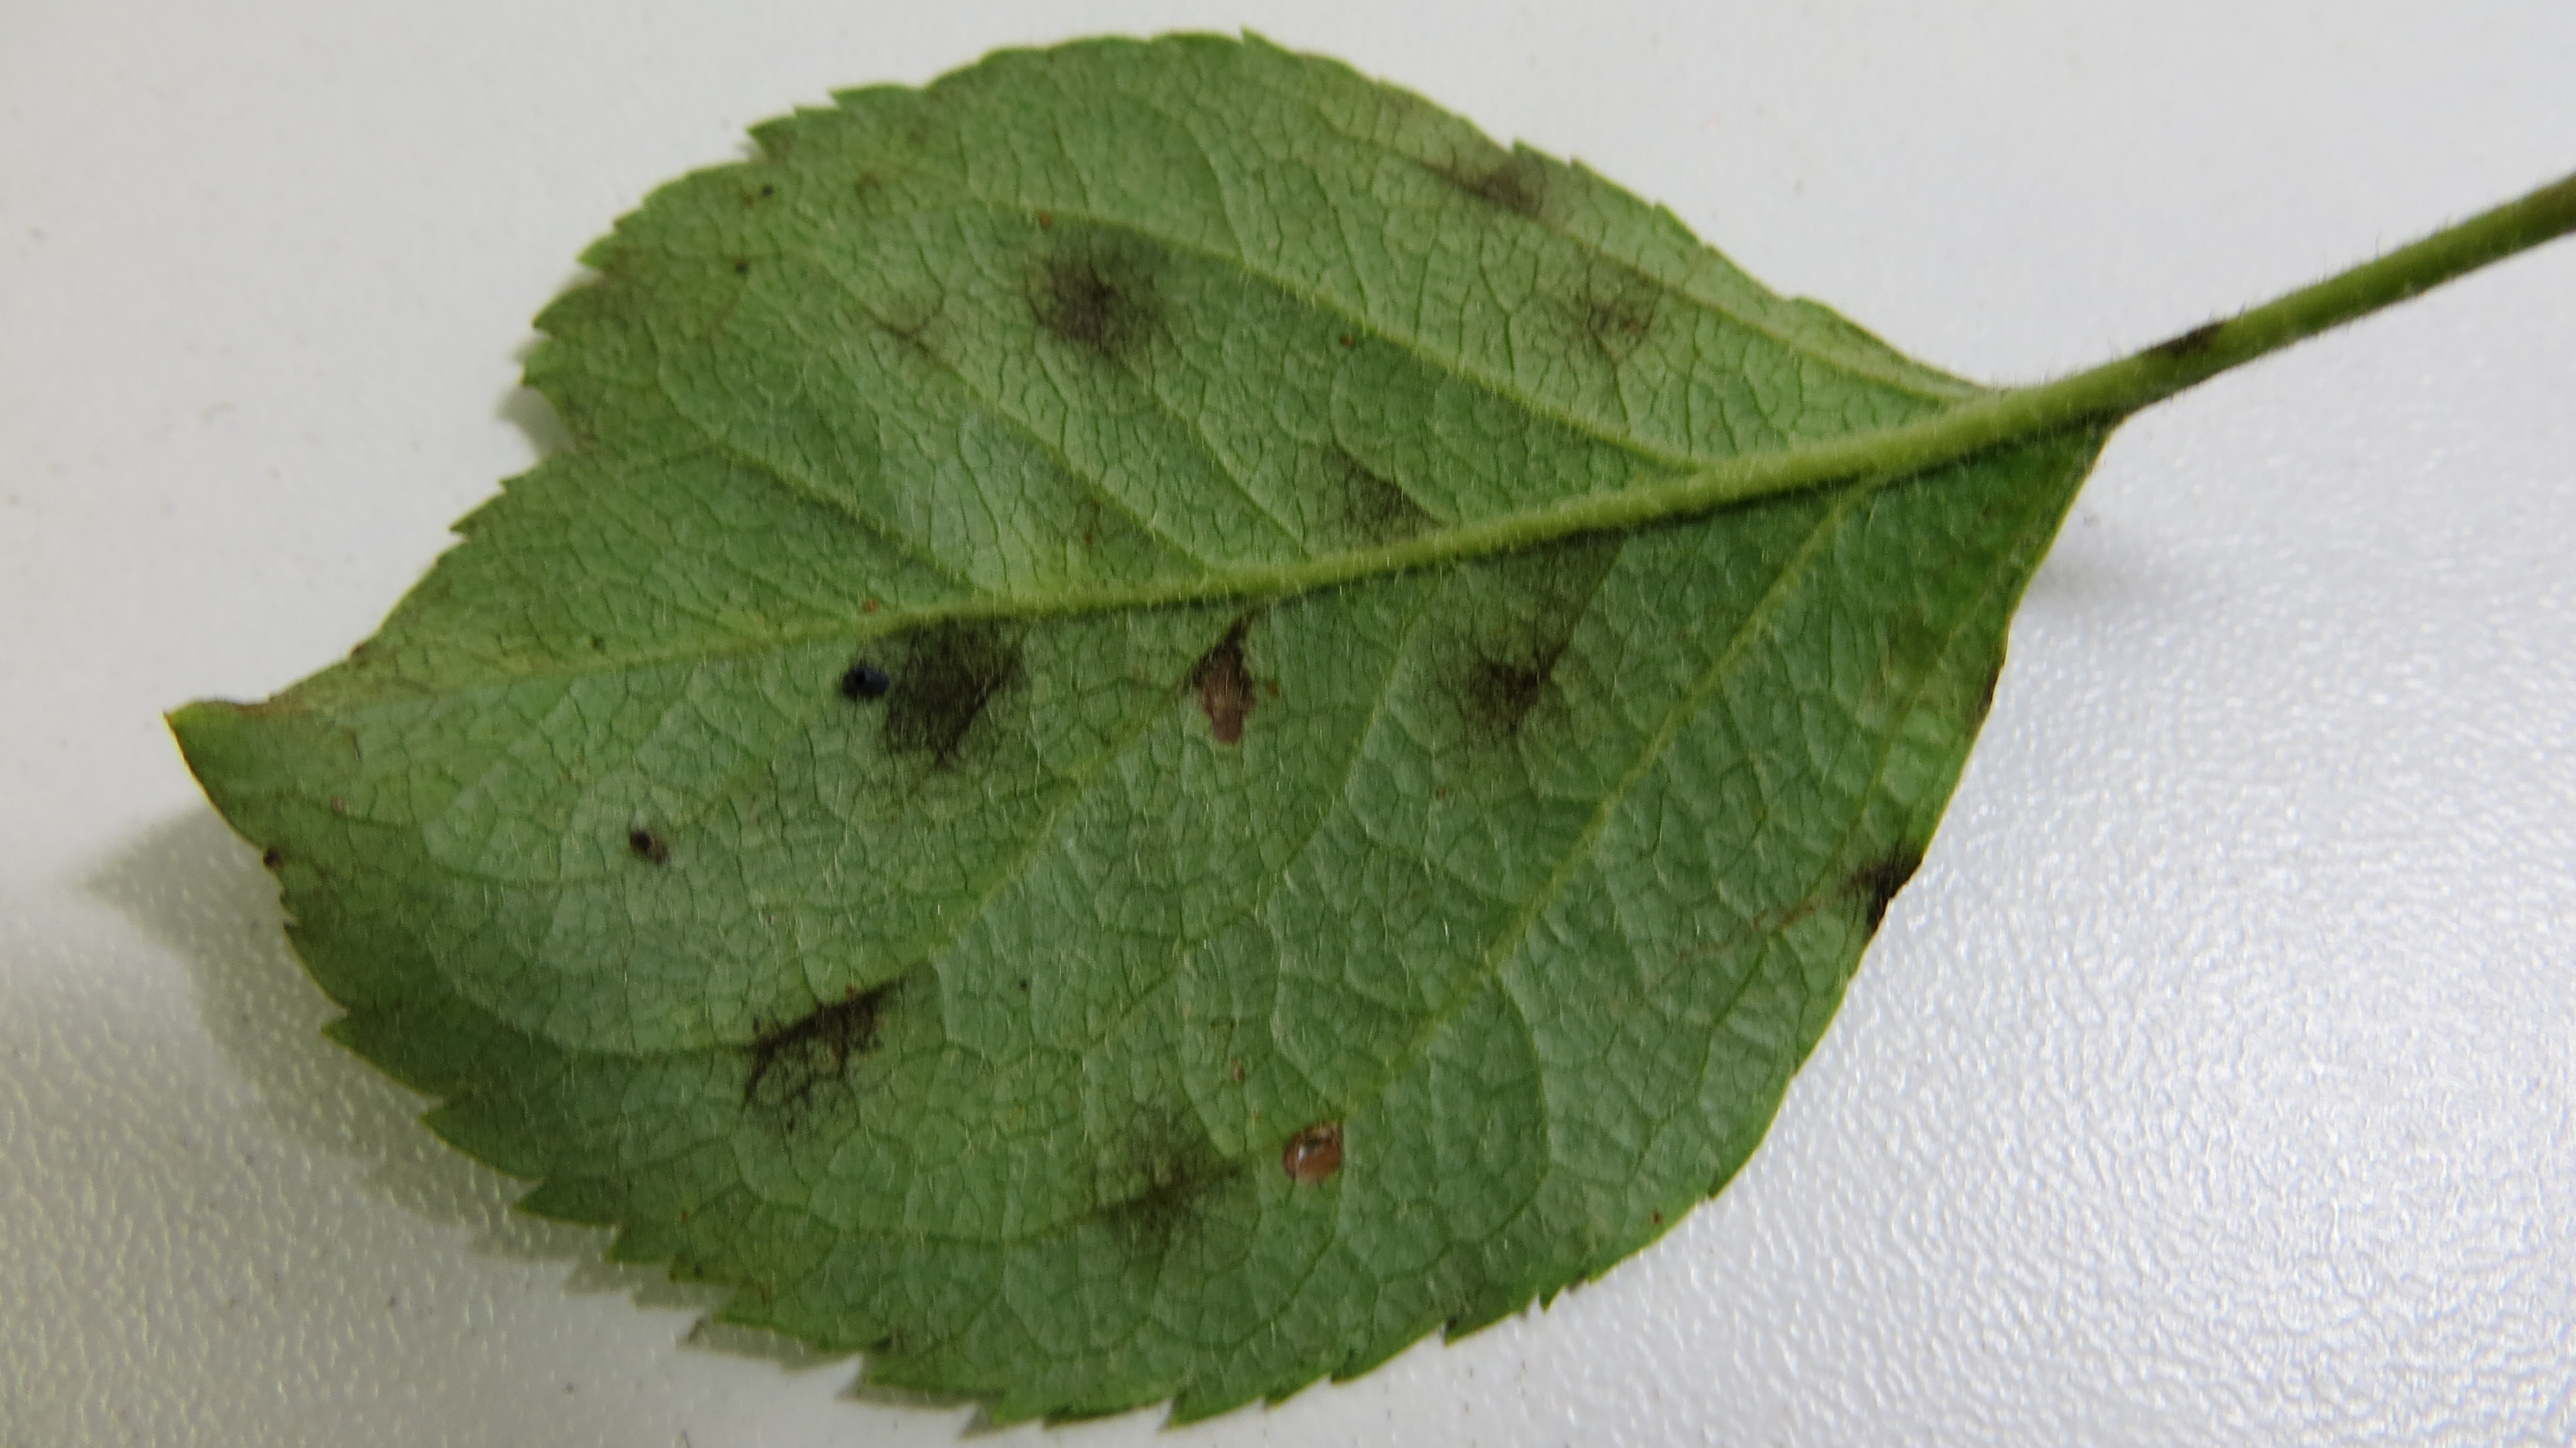sarna: (704, 949, 927, 1151), (826, 591, 1047, 788), (1008, 204, 1212, 393), (1069, 1074, 1240, 1292), (1426, 616, 1583, 763), (1159, 582, 1286, 759), (1541, 246, 1688, 382), (1311, 428, 1451, 566), (846, 276, 987, 400), (1438, 138, 1573, 246), (1260, 1087, 1359, 1204), (1836, 828, 1923, 952), (610, 816, 686, 894)
